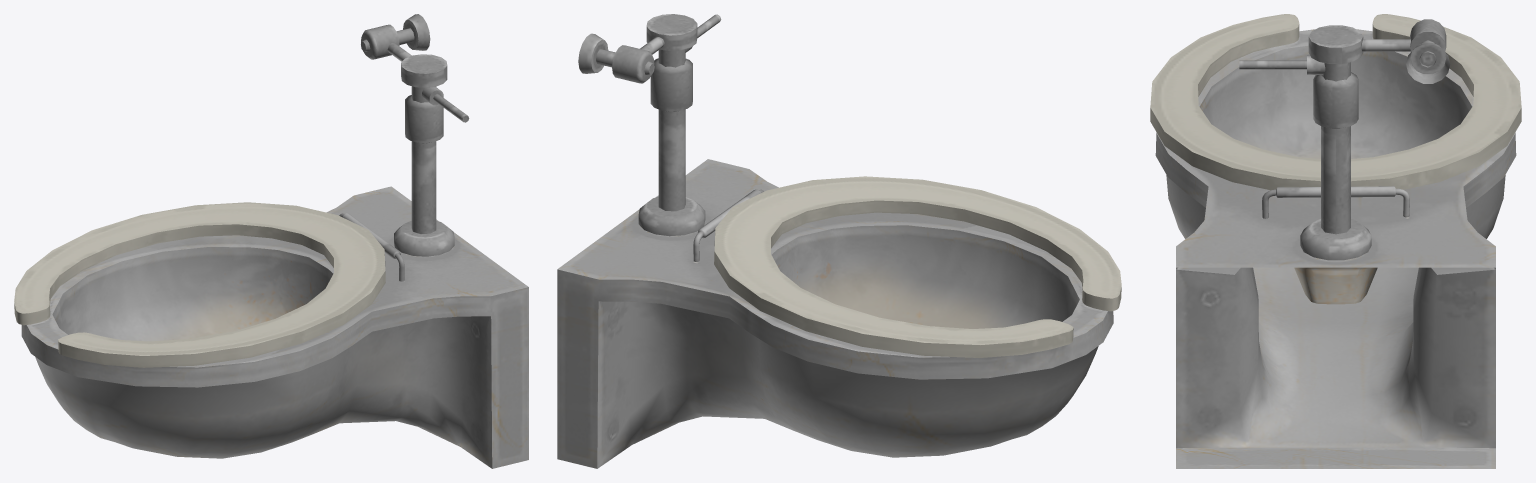
Rendered from MB_Toilet.fbx.
The picture shows the model from 3 angles, left to right: view 1: azimuth 30°, elevation 25°; view 2: azimuth 150°, elevation 25°; view 3: azimuth 270°, elevation 25°; orthographic projection. The views are drawn at different scales.
Parts seen in each view (by area): view 1: MB_Toilet_LOD0; view 2: MB_Toilet_LOD0; view 3: MB_Toilet_LOD0.
Part boxes in pixels (x1,y1,x2,y2): MB_Toilet_LOD0: (14, 14, 528, 468); MB_Toilet_LOD0: (557, 14, 1121, 468); MB_Toilet_LOD0: (1150, 14, 1521, 468).
Size of what is drawn, in the model's own units: 68.42 by 56.57 by 44.84.
